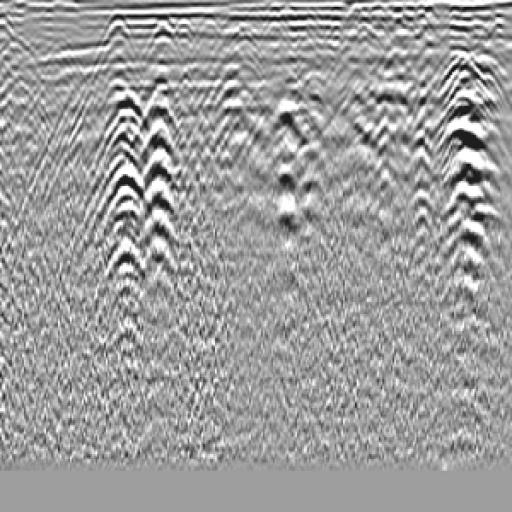metalic: (317, 49, 414, 250)
